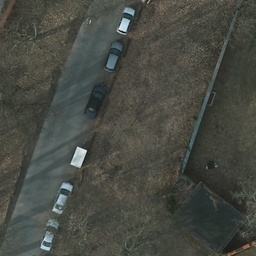car: (84, 82, 108, 120), (51, 180, 72, 214), (39, 215, 57, 252), (116, 3, 134, 35), (104, 43, 121, 72)
